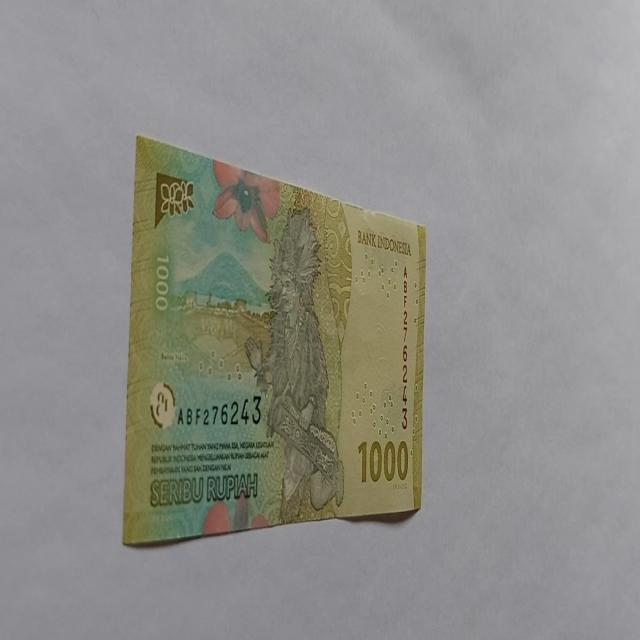seribu rupiah kertas: (122, 133, 427, 547), (244, 204, 344, 522)
